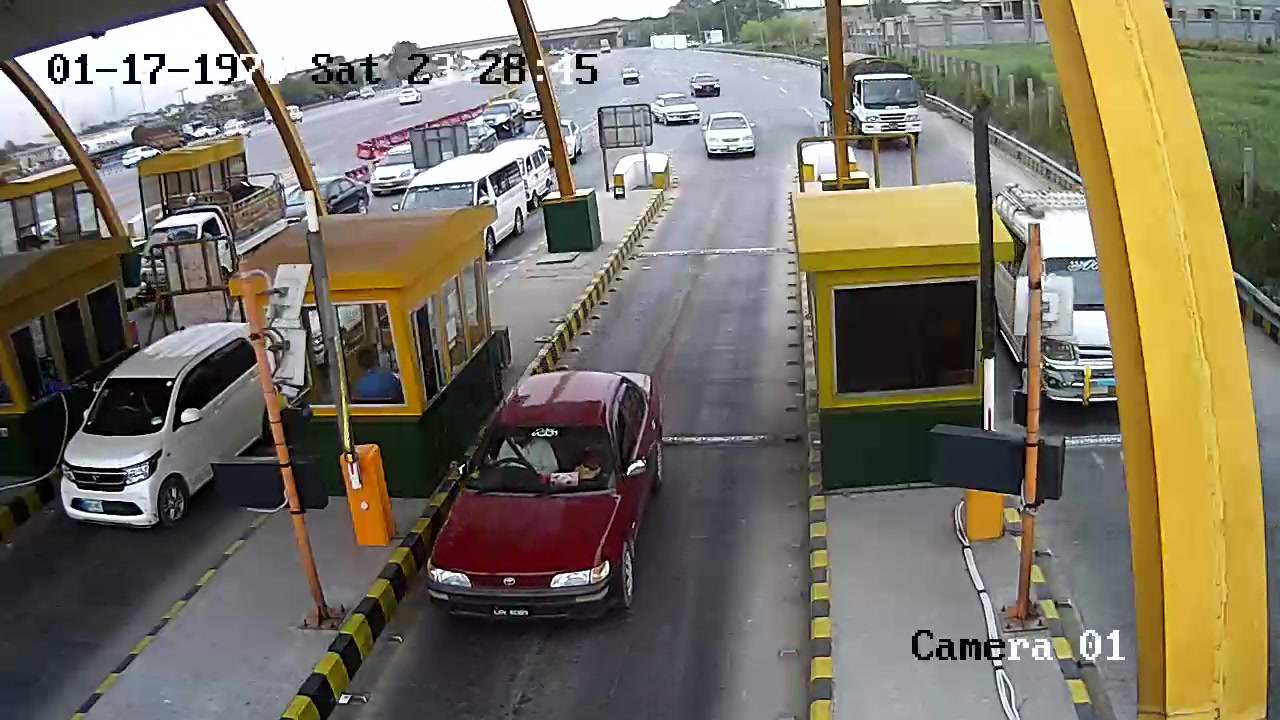F1: (407, 363, 706, 645)
